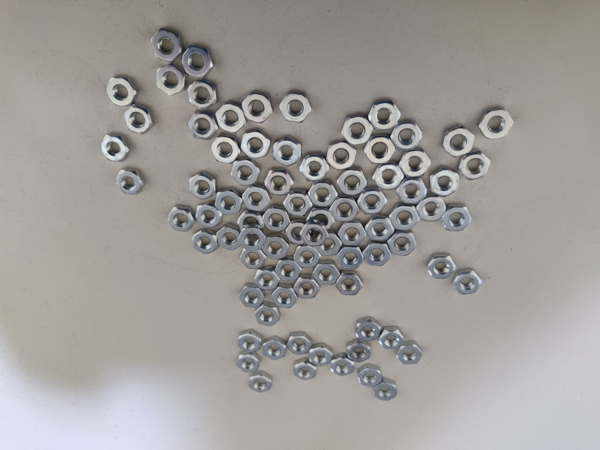nut: (341, 112, 375, 146), (479, 108, 514, 139), (442, 125, 476, 156), (183, 45, 213, 80), (398, 148, 433, 177), (153, 26, 182, 61), (157, 64, 188, 96), (429, 167, 462, 197), (107, 75, 137, 108), (281, 93, 312, 123), (243, 92, 273, 123), (370, 101, 402, 130), (327, 141, 359, 170), (396, 176, 427, 205), (188, 80, 219, 109), (357, 189, 390, 216), (190, 110, 219, 140), (167, 203, 196, 233), (460, 152, 491, 180), (364, 136, 395, 164), (442, 203, 471, 232), (338, 167, 367, 196), (242, 129, 270, 159), (392, 122, 423, 149), (218, 103, 245, 134), (102, 131, 129, 162), (453, 269, 485, 295), (187, 173, 219, 199), (284, 189, 312, 218), (213, 189, 242, 217), (212, 134, 239, 164), (232, 158, 260, 186), (274, 138, 301, 167), (243, 186, 270, 215), (427, 254, 457, 280), (308, 182, 338, 208), (117, 167, 143, 197), (389, 230, 418, 256), (331, 197, 360, 223), (300, 154, 329, 180), (313, 261, 342, 287), (124, 108, 151, 135), (264, 206, 291, 233), (338, 245, 366, 271), (192, 231, 220, 257), (242, 186, 271, 211), (373, 165, 403, 189), (237, 212, 267, 236), (390, 205, 418, 230), (239, 227, 267, 252), (194, 204, 222, 229), (365, 218, 396, 240), (240, 284, 266, 310), (355, 317, 381, 343), (417, 196, 444, 221), (266, 169, 293, 194), (216, 225, 241, 252), (340, 221, 366, 246), (364, 241, 390, 266), (277, 257, 302, 283), (253, 267, 280, 291), (398, 341, 425, 365), (262, 334, 286, 361), (264, 236, 290, 260), (248, 371, 274, 395), (337, 273, 364, 296), (256, 304, 283, 327), (316, 232, 341, 256), (237, 330, 262, 354), (300, 223, 326, 246), (308, 344, 334, 367), (381, 326, 405, 350), (237, 352, 261, 376), (295, 274, 318, 299), (309, 208, 334, 231), (294, 245, 320, 267), (273, 287, 299, 308), (240, 248, 266, 269), (357, 364, 380, 387), (287, 221, 309, 245), (294, 360, 318, 382), (375, 380, 397, 402), (331, 355, 353, 377), (289, 332, 309, 356)
